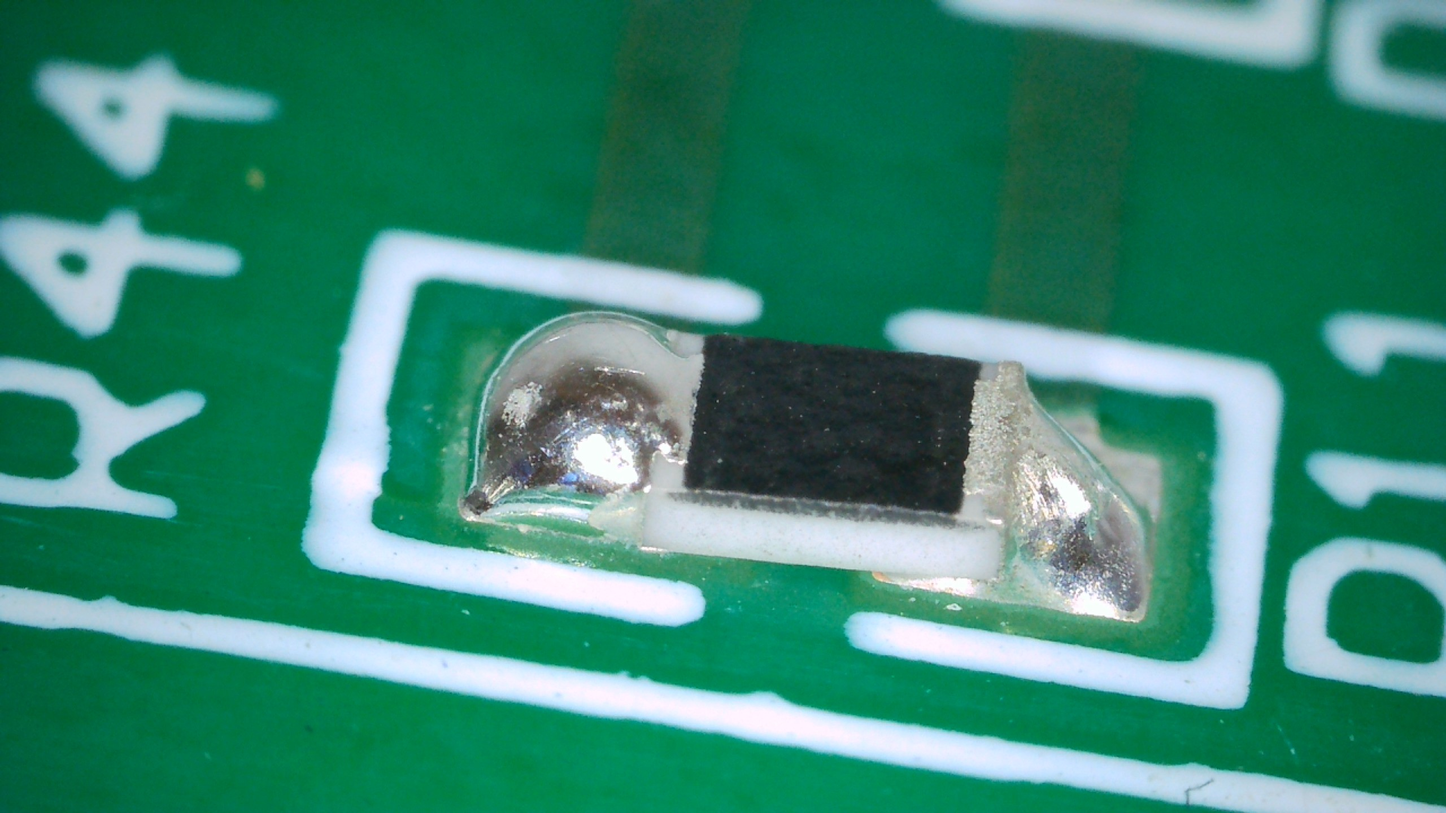NG: (960, 363, 1148, 618), (464, 314, 701, 516)
